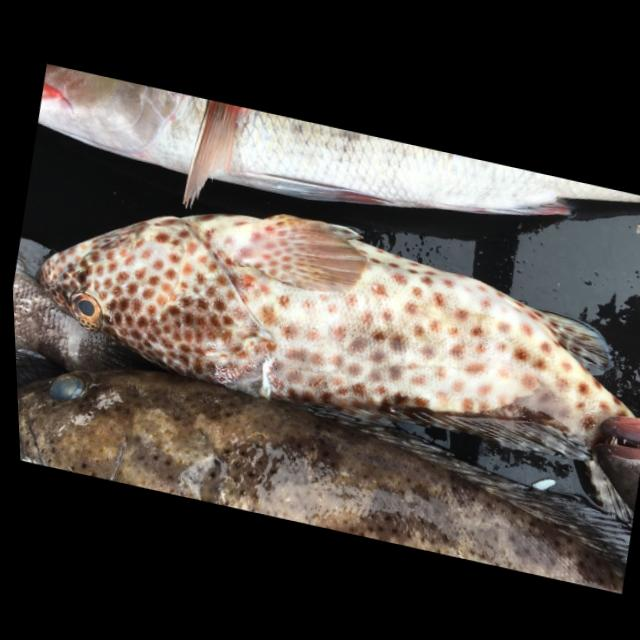Groupers: (16, 159, 640, 479)
